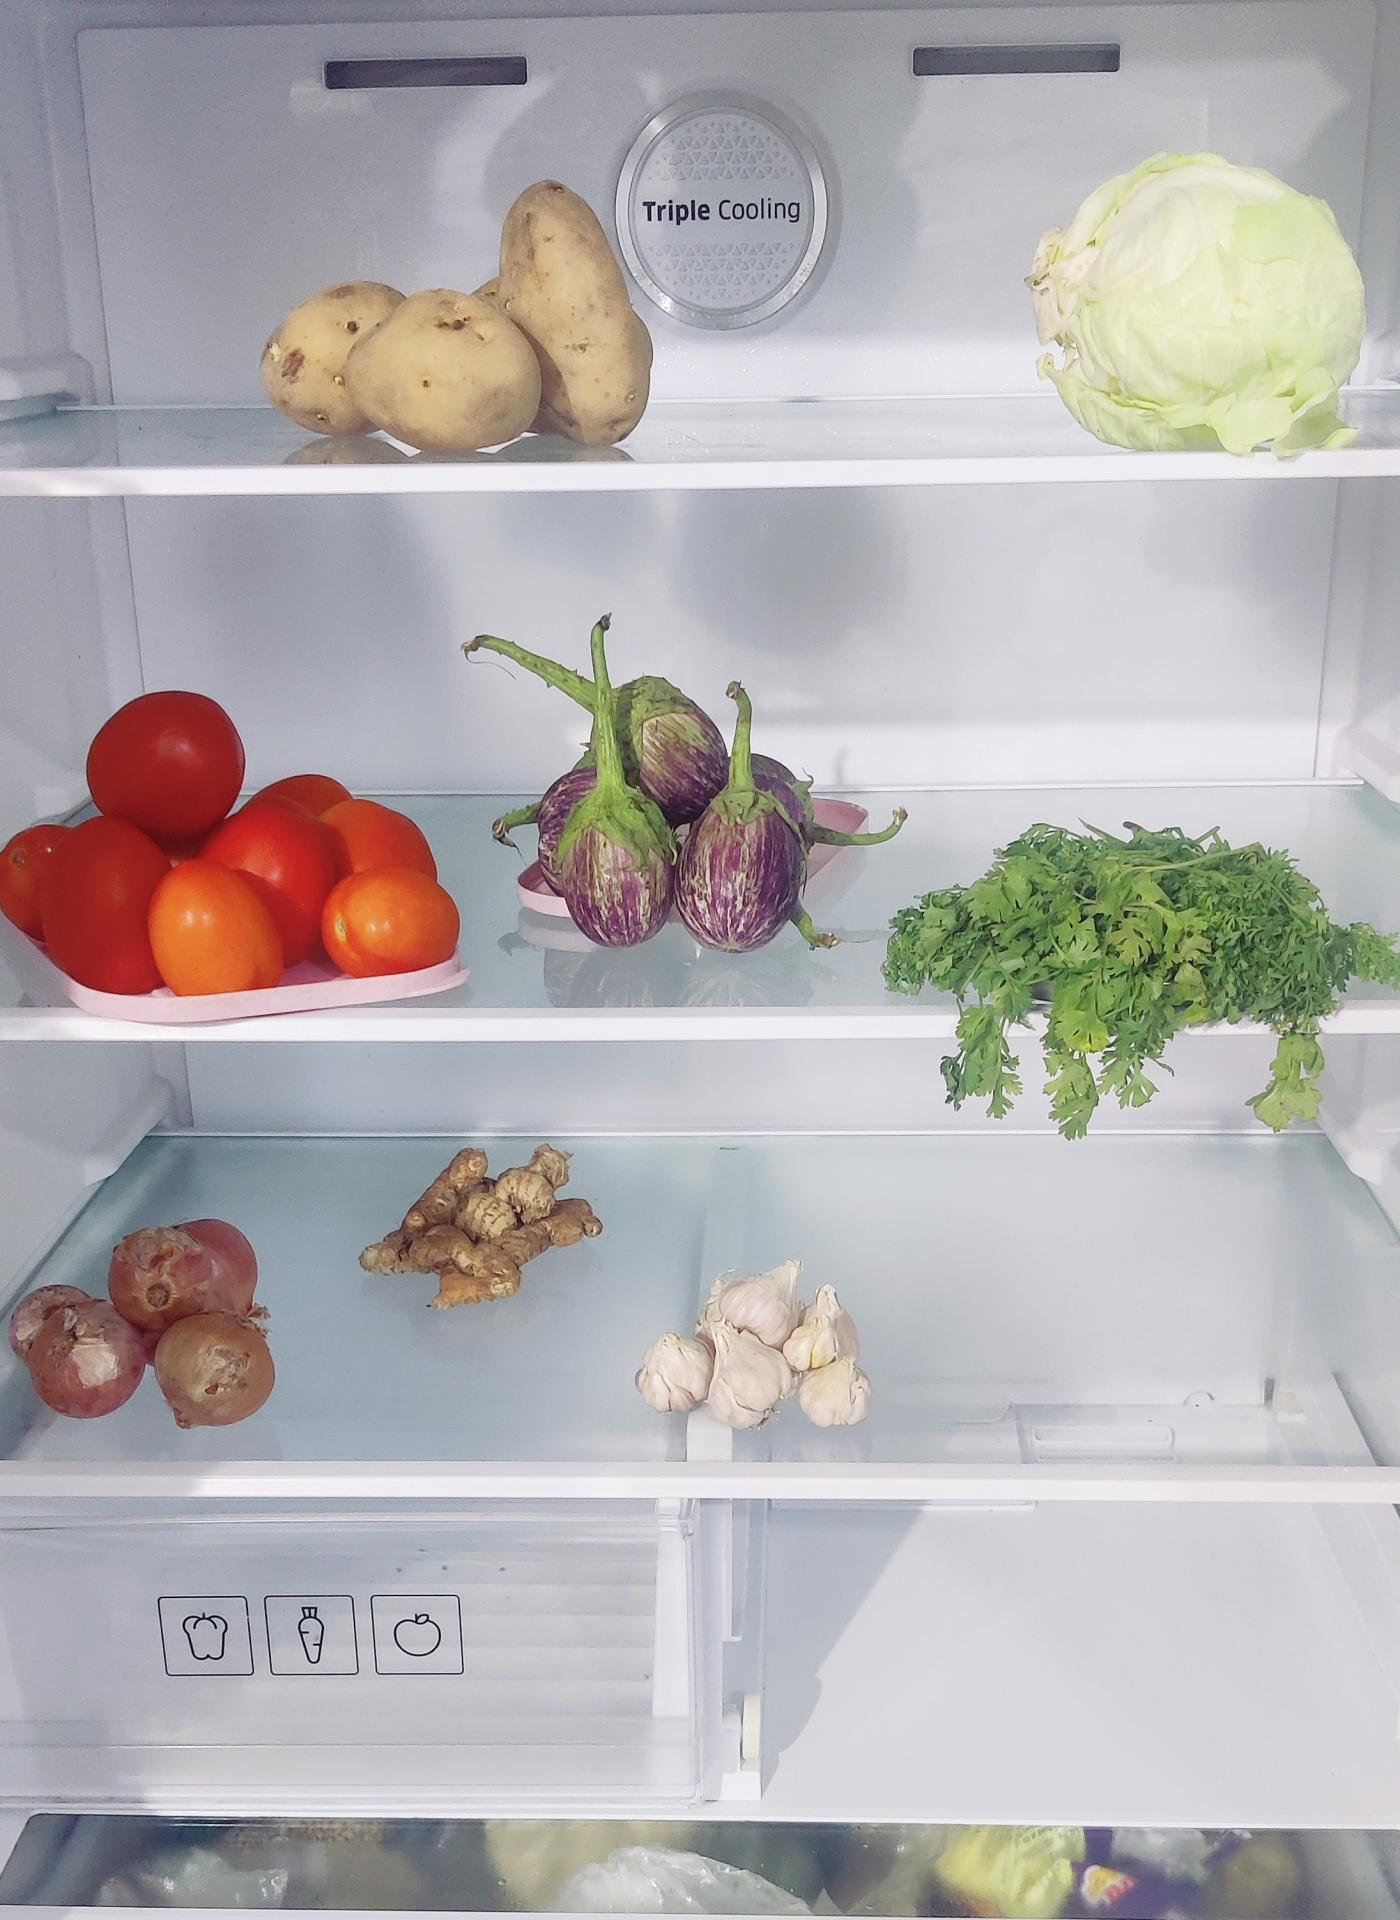brinjal: (538, 680, 822, 957)
cabbage: (1035, 154, 1372, 452)
coriander: (886, 838, 1381, 1073)
garlic: (638, 1267, 875, 1437)
ginger: (358, 1145, 602, 1312)
onion: (40, 1204, 280, 1441)
potato: (255, 189, 653, 456)
tomato: (1, 693, 458, 997)
